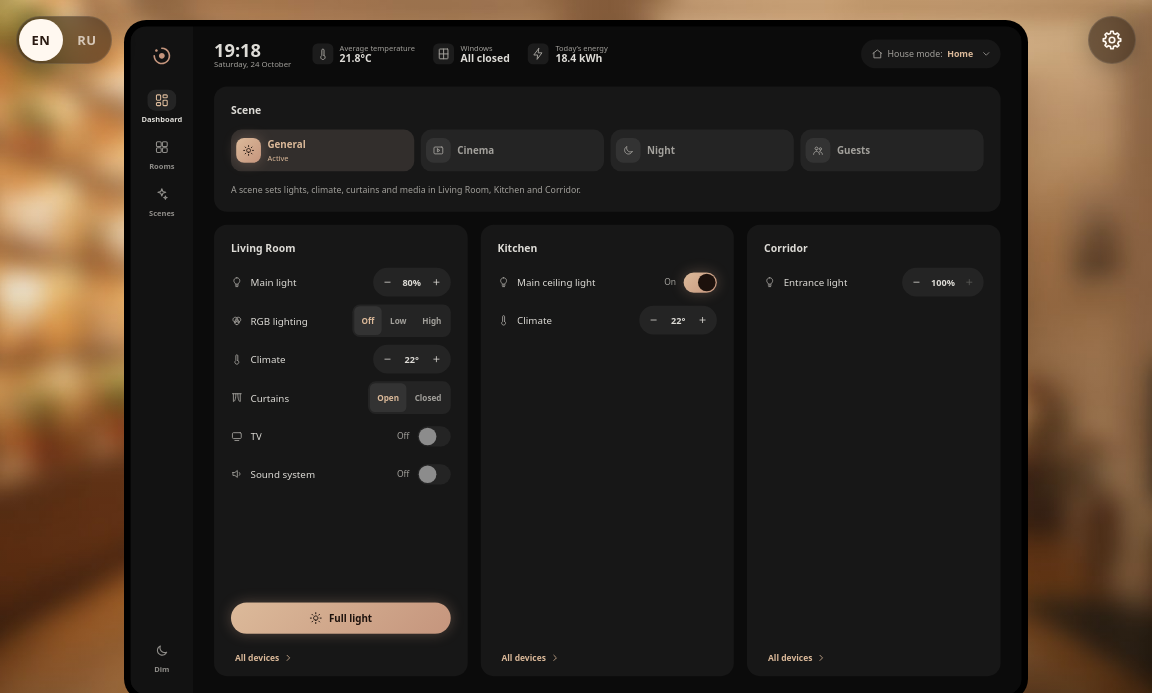
Test: главная страница › экран тревоги: таймер, место, звук и кнопка; на русском тоже
Click the button named "Settings & demo content" at (1112, 40), box [1088,16,1136,64]
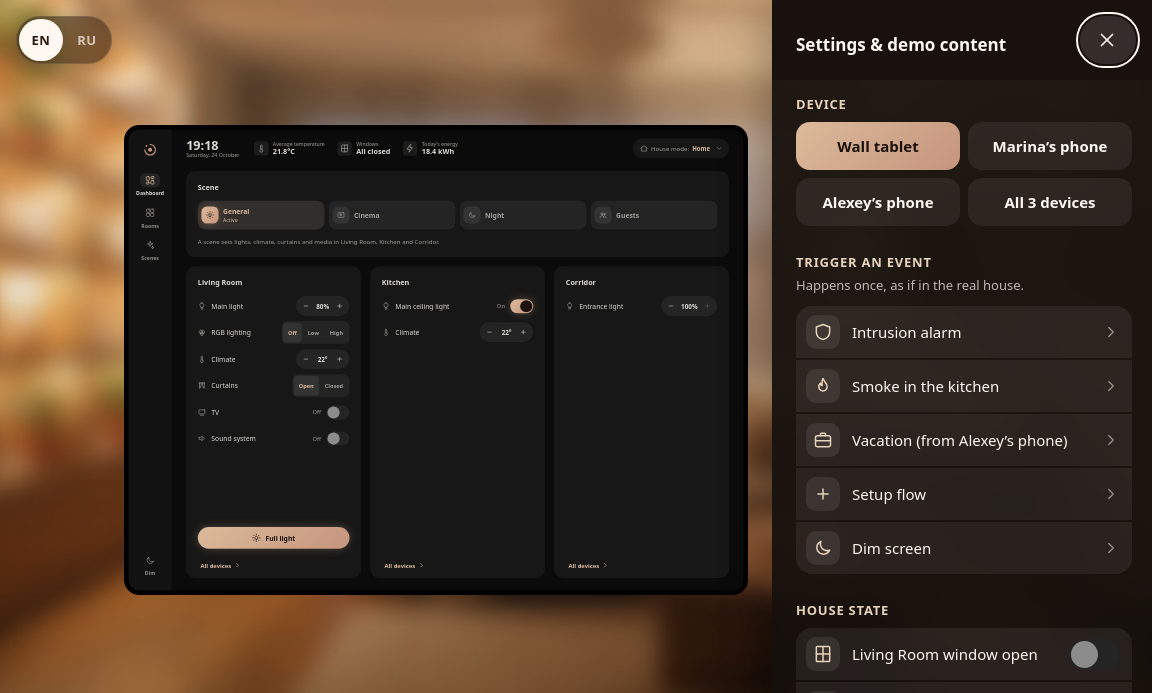
Click the button "Smoke in the kitchen" at (964, 386), box [796,360,1132,412]
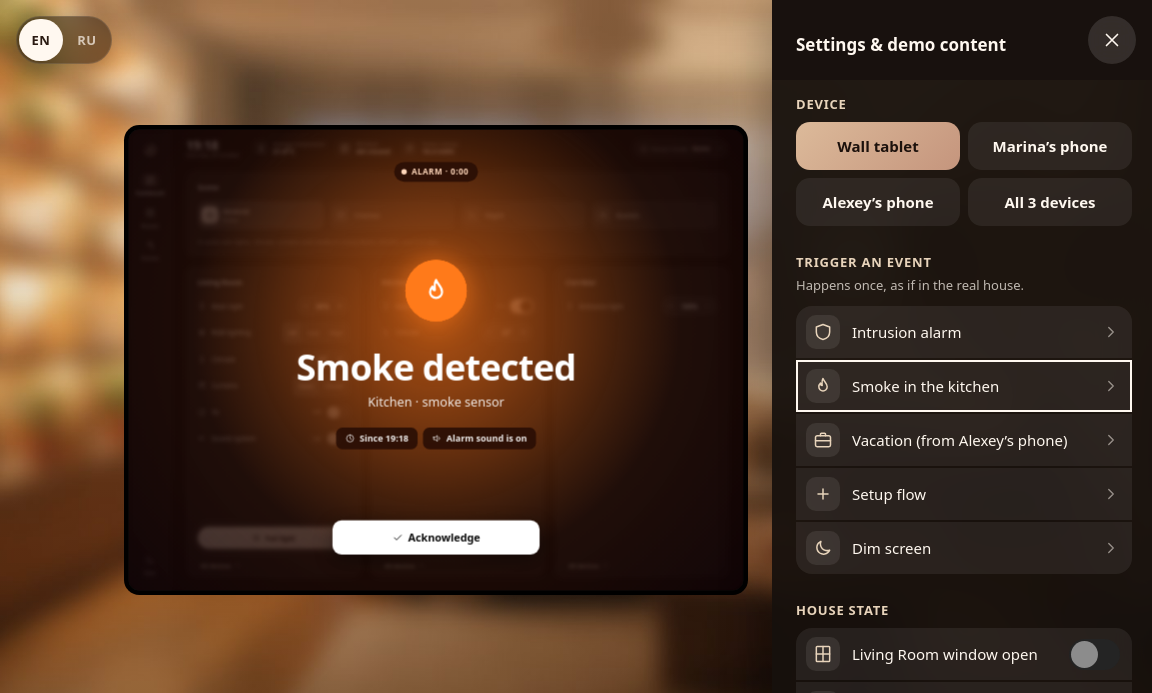
Result: the dialog "Smoke detected" shows "Kitchen · smoke sensor" at [368,393,504,410]
Result: the dialog "Smoke detected" shows "Alarm sound is on" at [446,432,527,444]
Click the button "RU" at (87, 40), box [65,19,109,61]
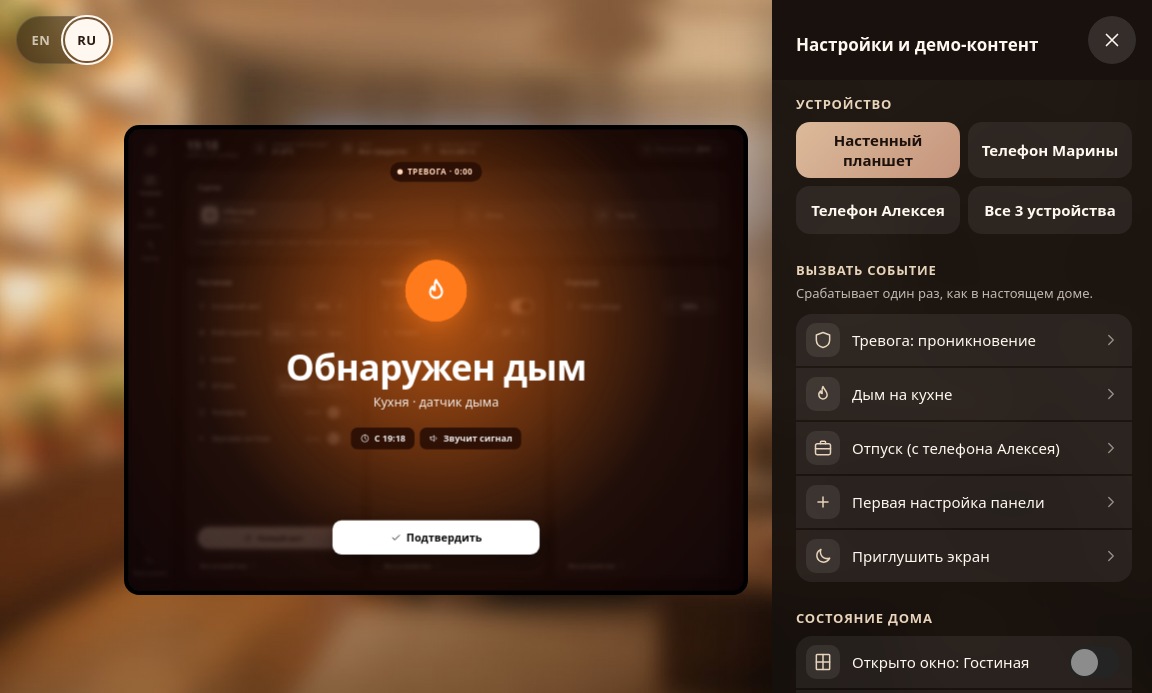
Result: the dialog "Обнаружен дым" shows "Кухня · датчик дыма" at [373,393,499,410]
Click the button "Подтвердить" at (436, 537), box [332,520,540,554]
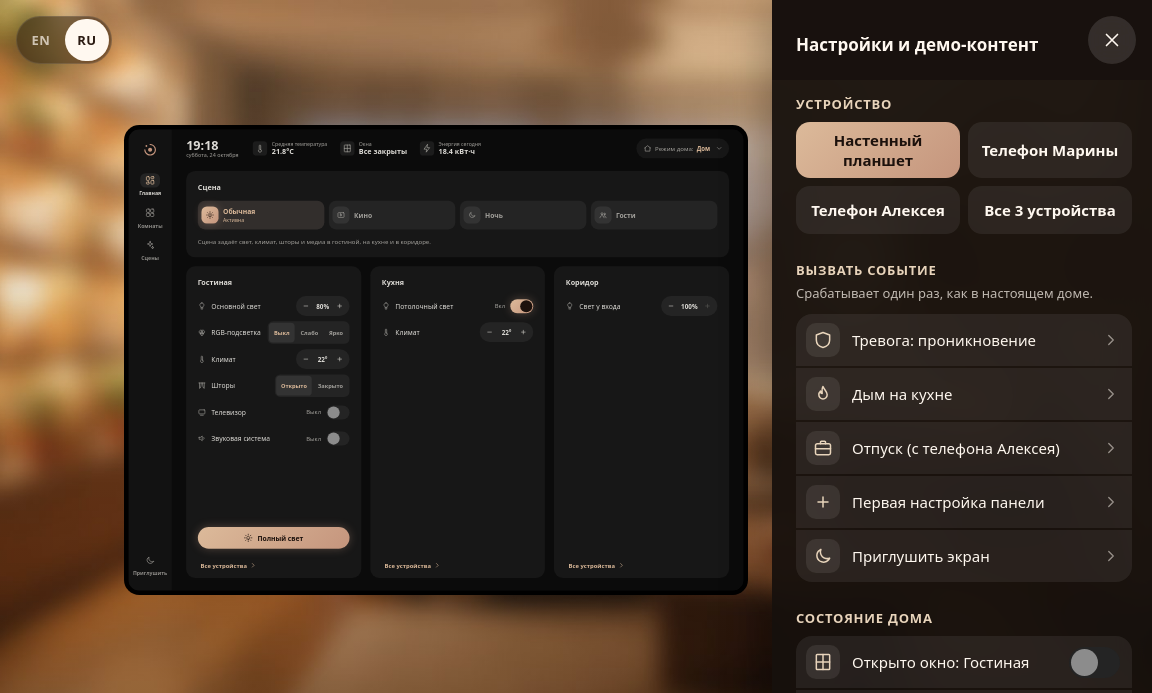
Result: the dialog is gone
